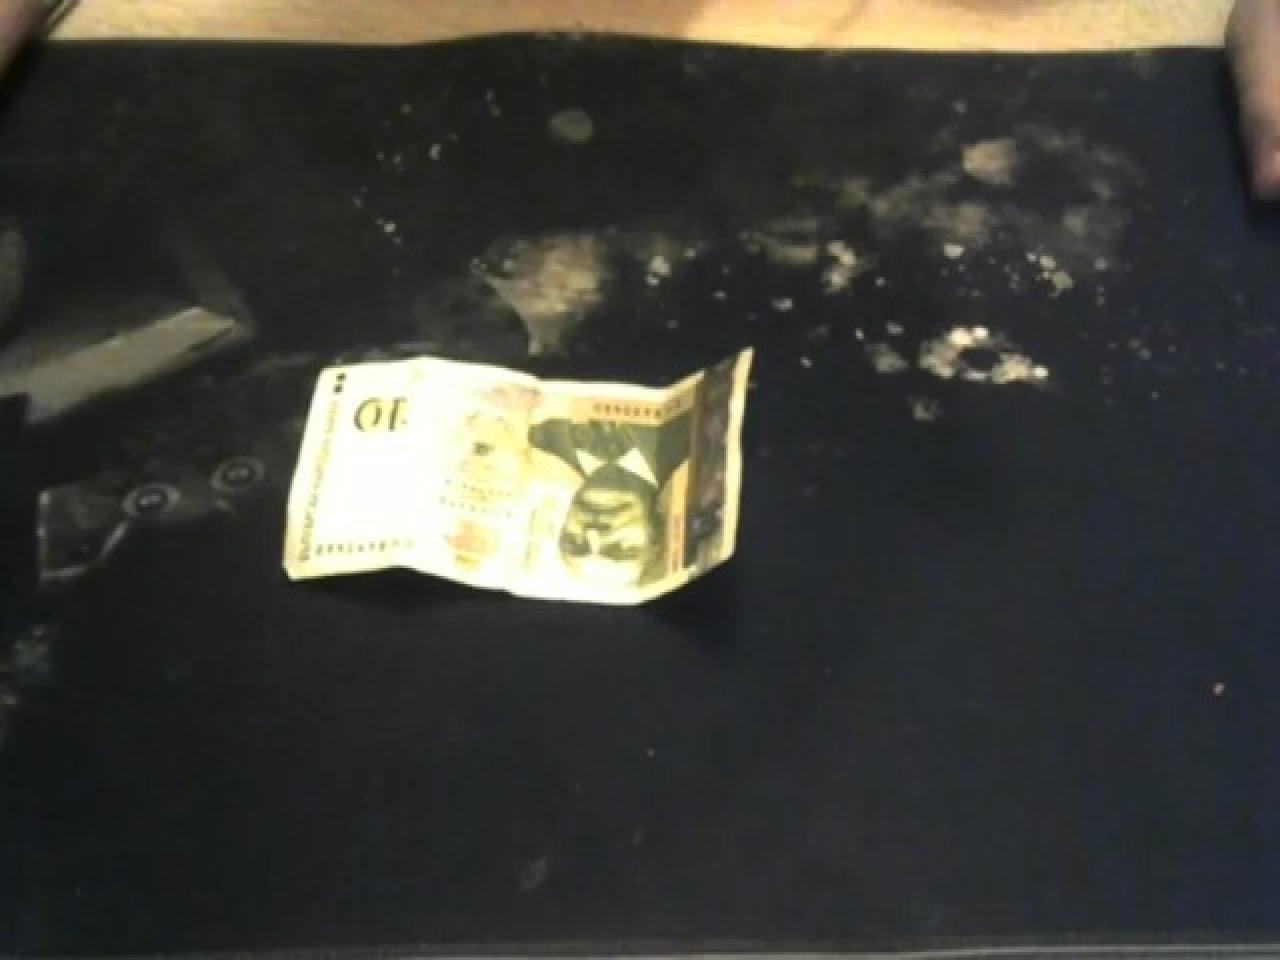10leva: (533, 408, 702, 594), (338, 378, 415, 467)
